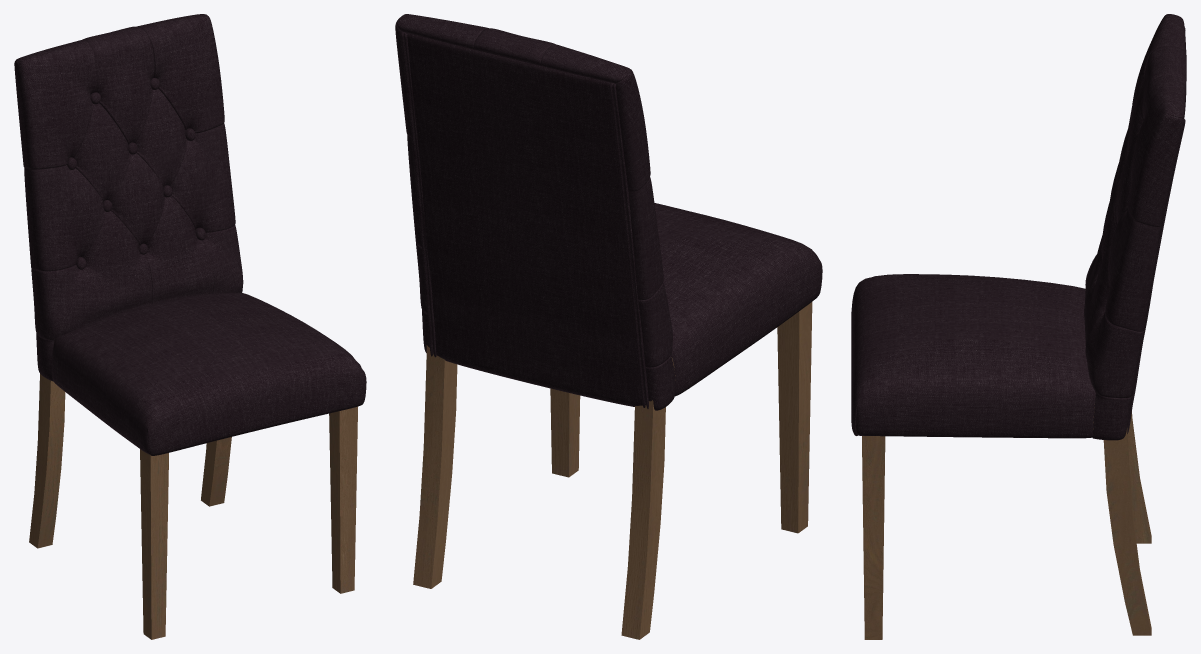
The model's file is example68.glb.
3 views of the same model, side by side, from view 1: azimuth 30°, elevation 25°; view 2: azimuth 150°, elevation 25°; view 3: azimuth 270°, elevation 25° (orthographic). The views are drawn at different scales.
Parts seen in each view (by area): view 1: Buffer Layer (×3); view 2: Buffer Layer (×3); view 3: Buffer Layer (×3).
Boxes of the visible parts, <box> form: Buffer Layer (×3): <box>14,14,366,639</box>; Buffer Layer (×3): <box>395,14,822,639</box>; Buffer Layer (×3): <box>851,14,1186,639</box>.
Size of the model in its own units: 0.52 by 1.08 by 0.6238.
Materials: 2 (2 with a texture image).
